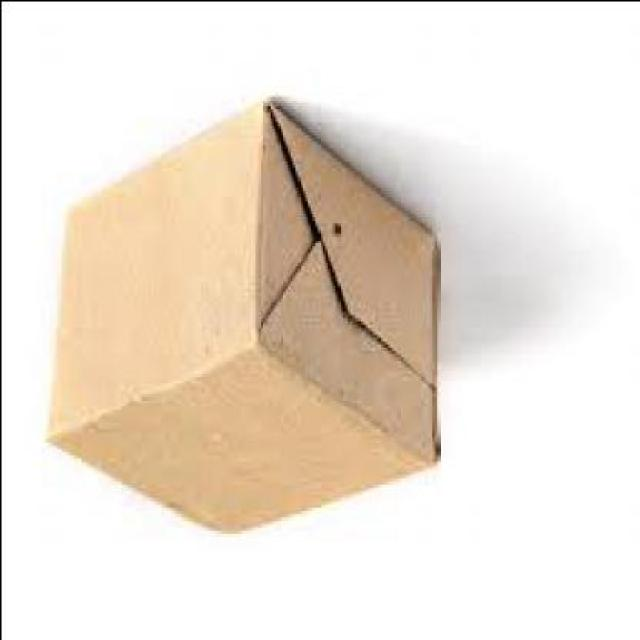CARDBOARD: (44, 98, 438, 536)
